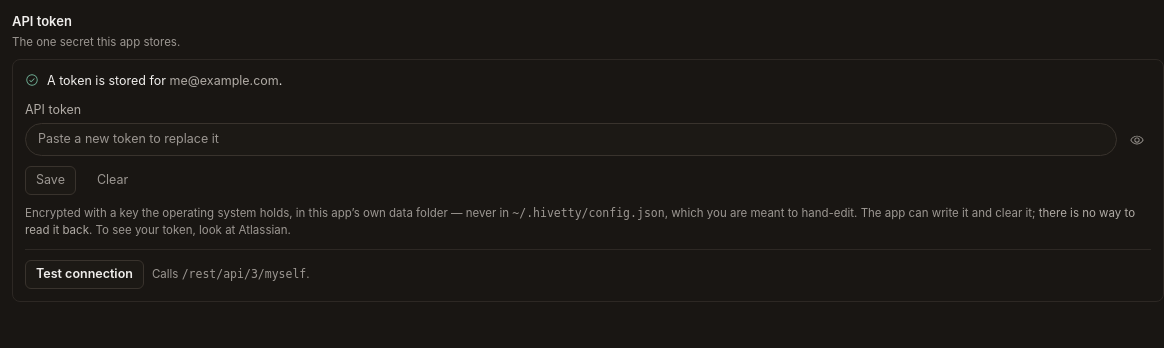
Test: testing the connection › reports a 401 with Jira's own words and does not clear the credential
The image size is (1164, 348).
Click the button "Test connection" at (84, 275), box [25,260,144,289]
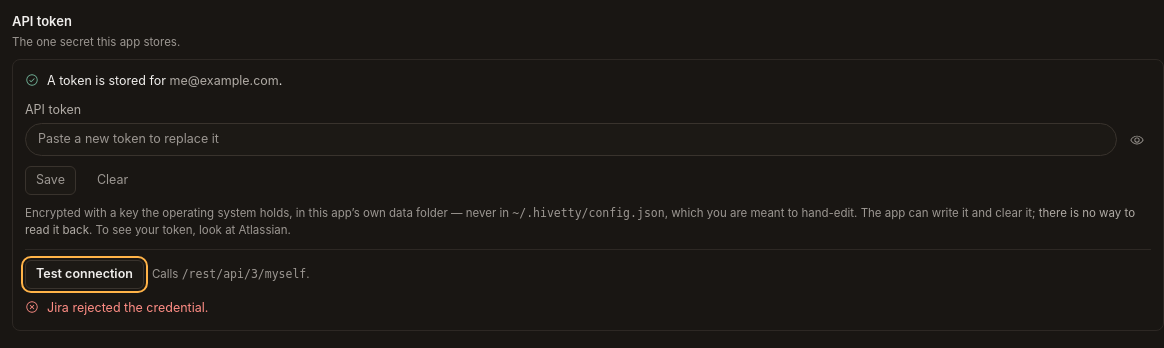
expect the text "A token is stored for me@example.com." is shown: met, box [47,72,282,91]
expect the text "Jira rejected the credential." is shown: met, box [47,299,208,318]
